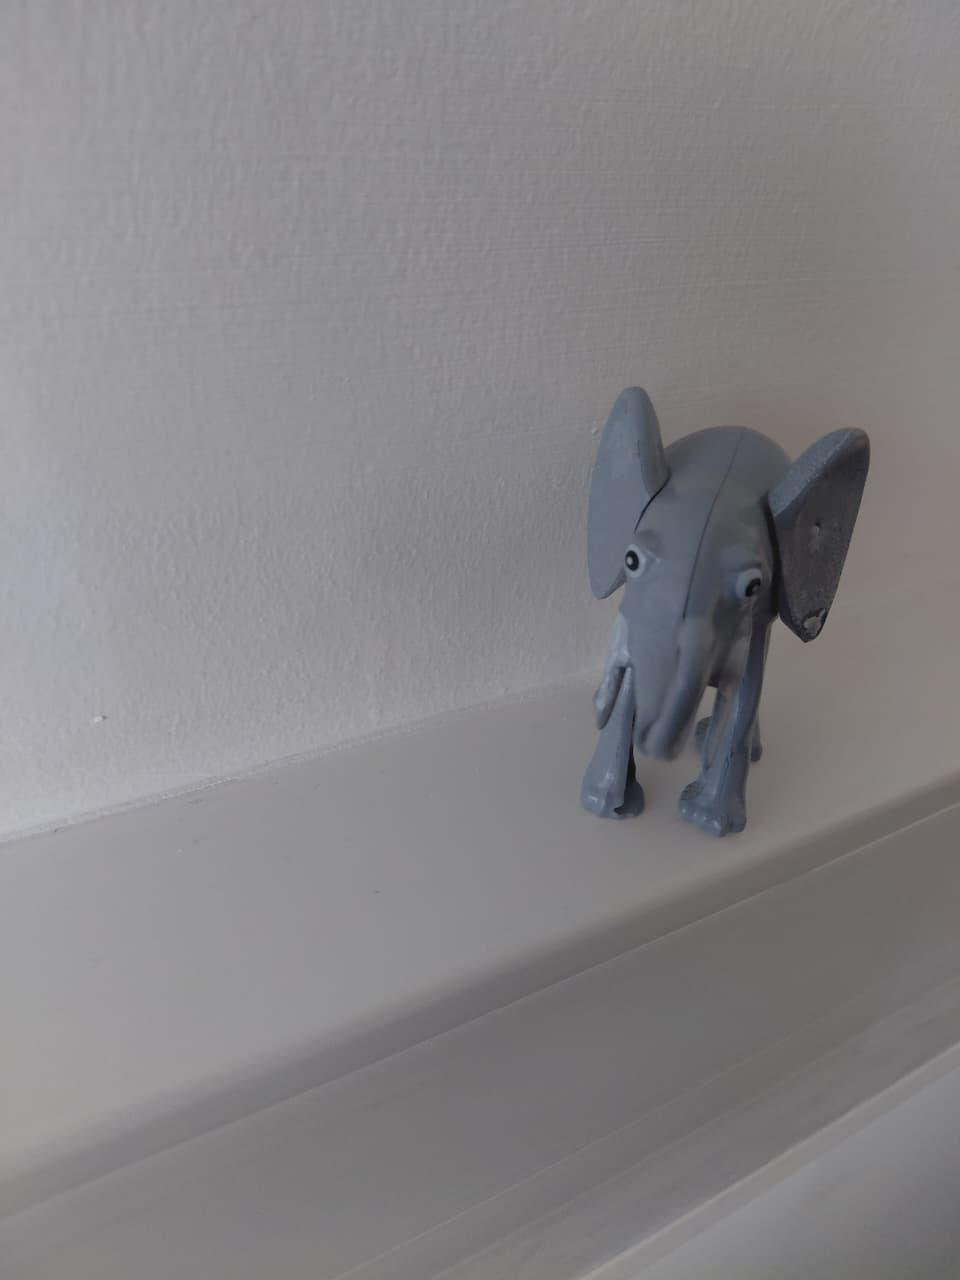elephant: (560, 356, 886, 883)
